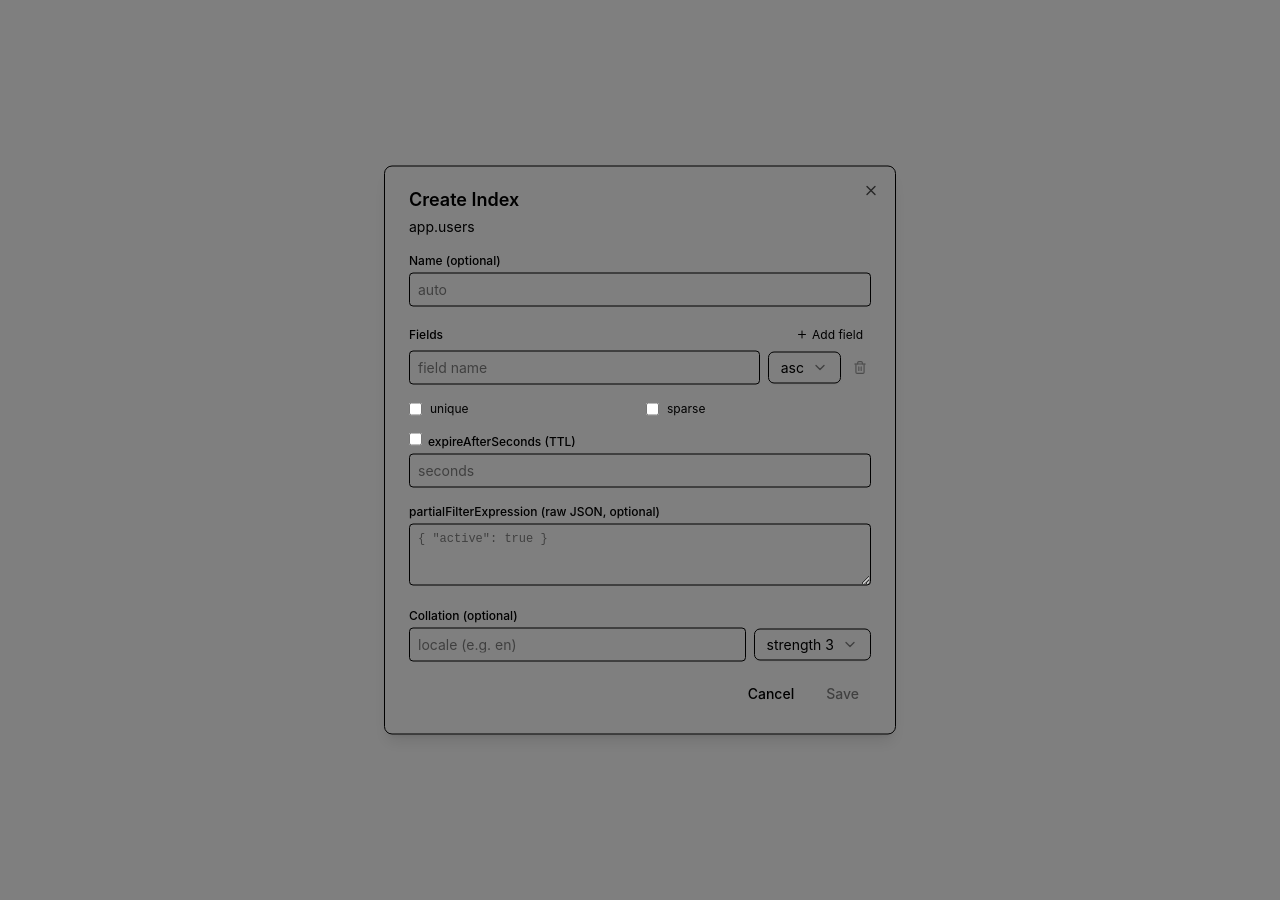
CreateMongoIndexDialog › keeps the dialog open and paints role=alert on driver error
Step 1. Type "email" into the field with test id "mongo-create-index-field-name-0" → (584, 368), box [409, 350, 760, 384]
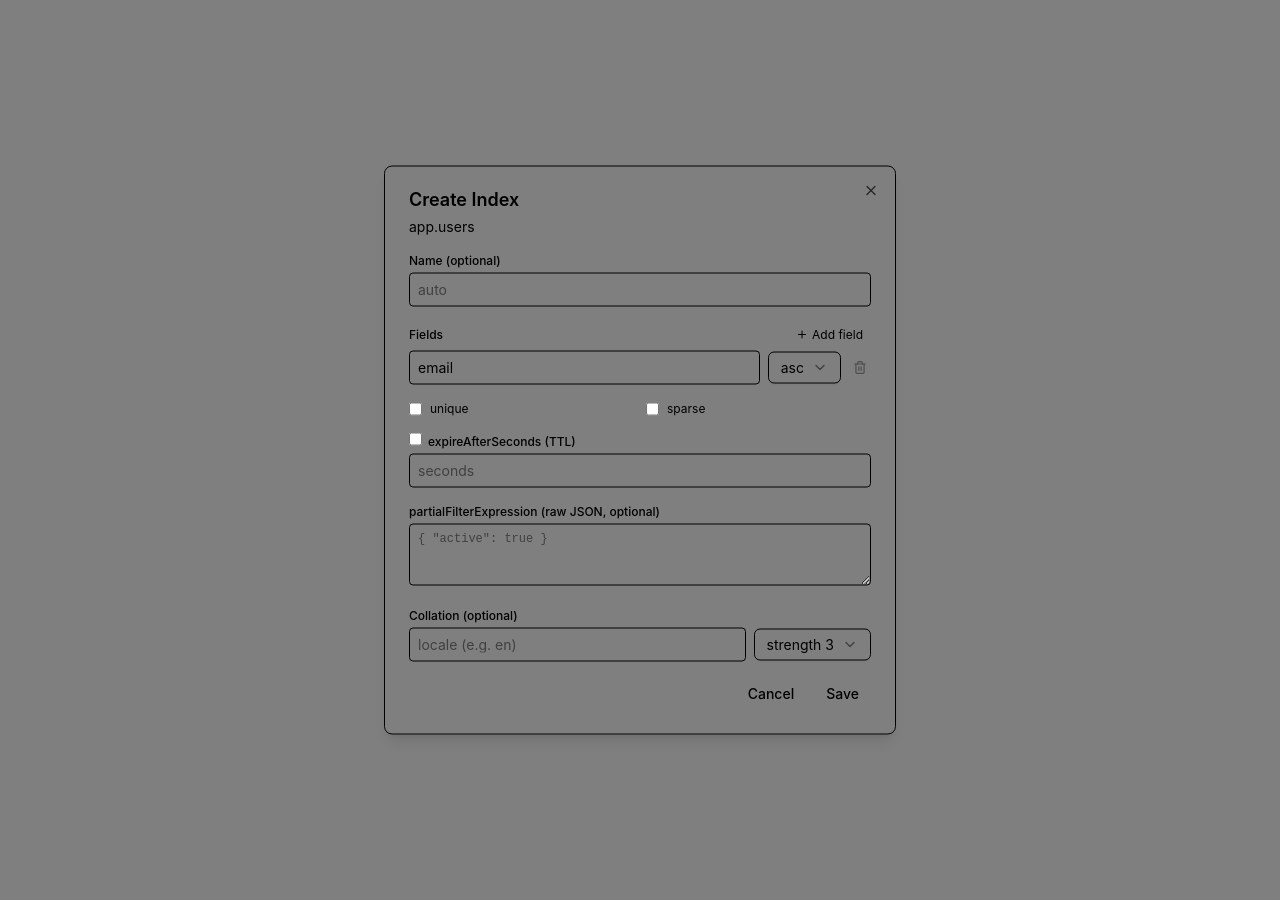
Step 2. Click the button with test id "mongo-create-index-save" → (843, 694), box [814, 678, 871, 710]
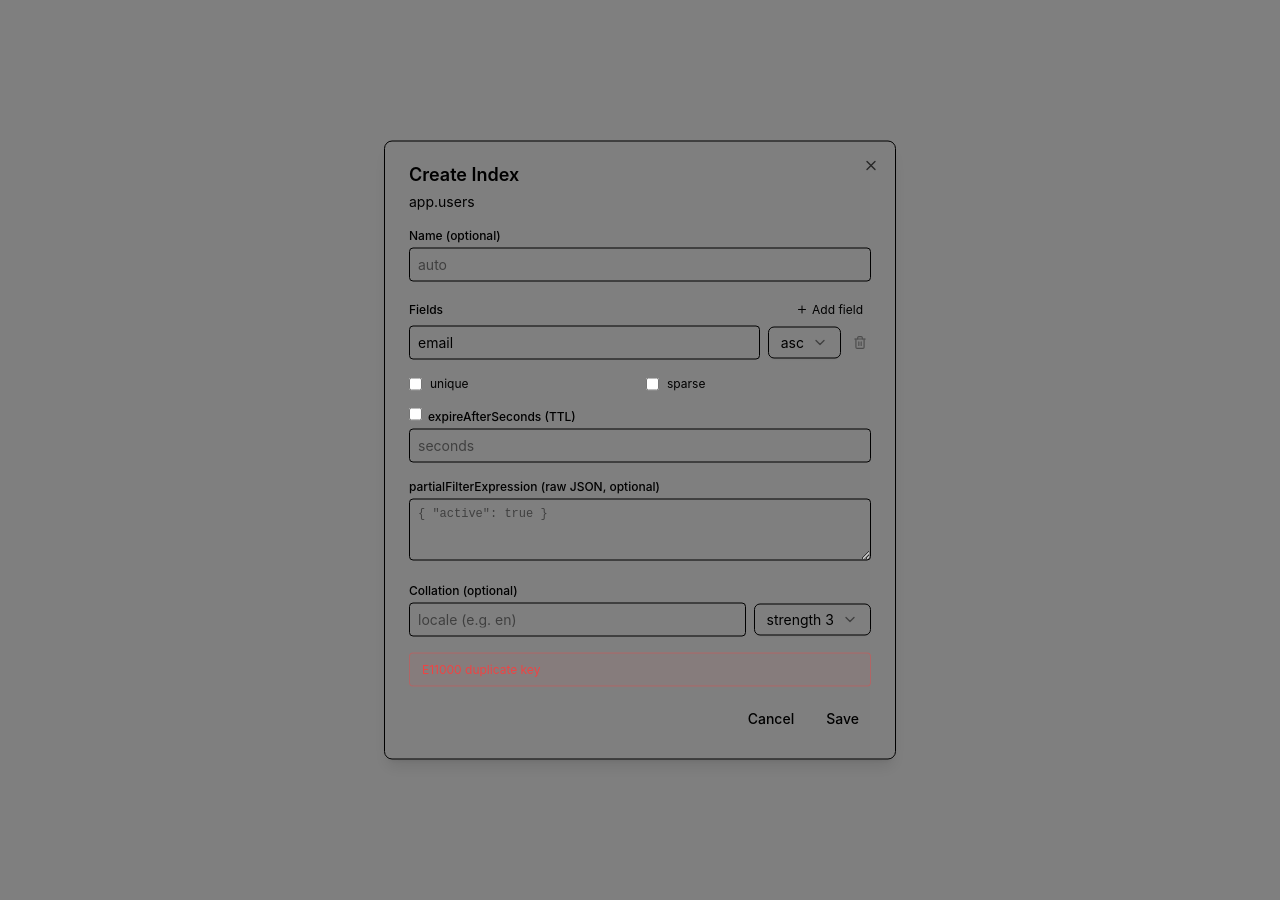
Check: the dialog with test id "mongo-create-index-dialog" is shown, box [384, 140, 896, 760]
Check: the message with test id "mongo-create-index-error" shows "duplicate key", box [422, 662, 540, 676]
